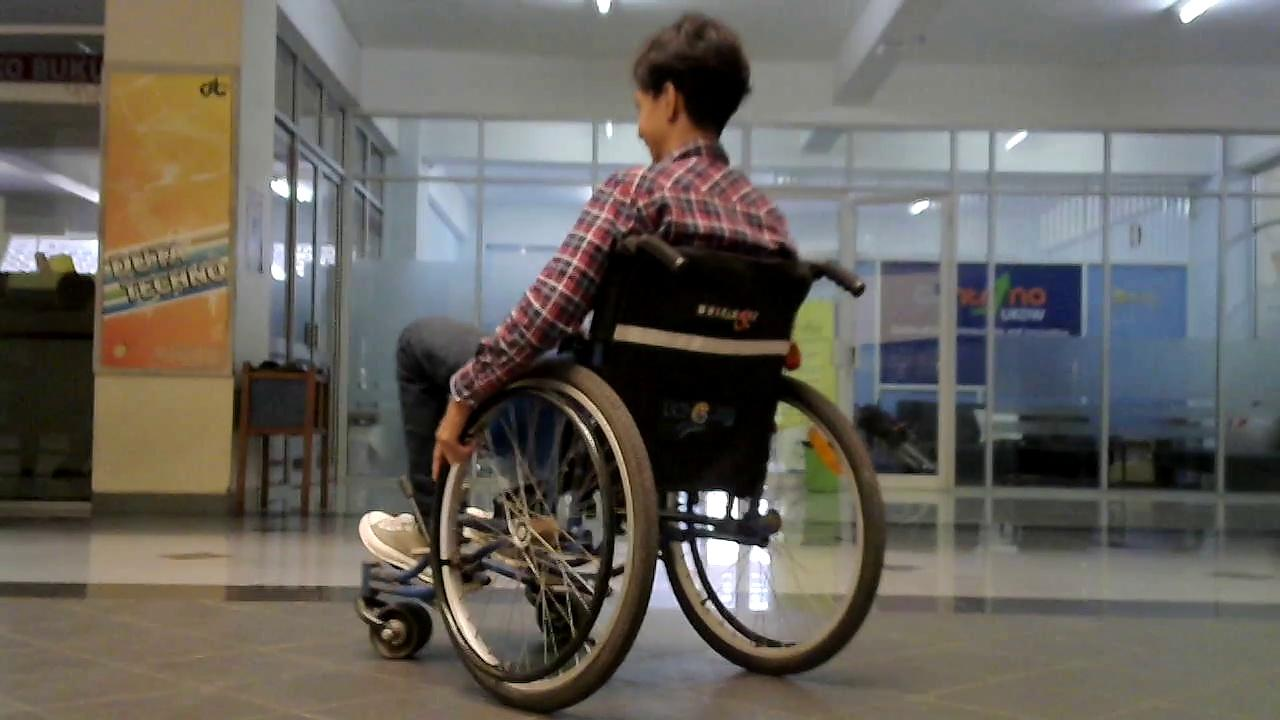person: (429, 14, 867, 491)
wheelchair: (336, 196, 902, 710)
